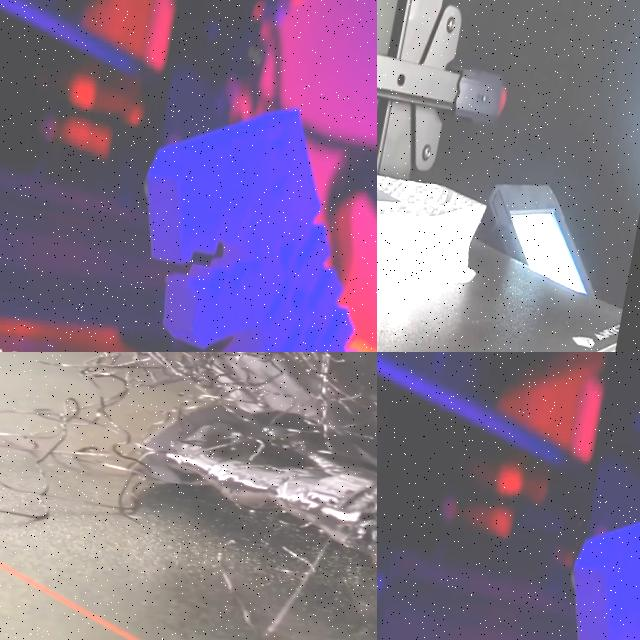spaghetti: (0, 352, 377, 640)
